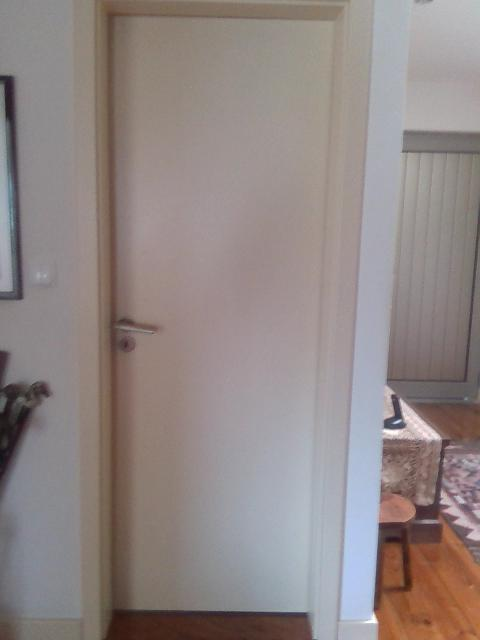door: (110, 17, 330, 614)
